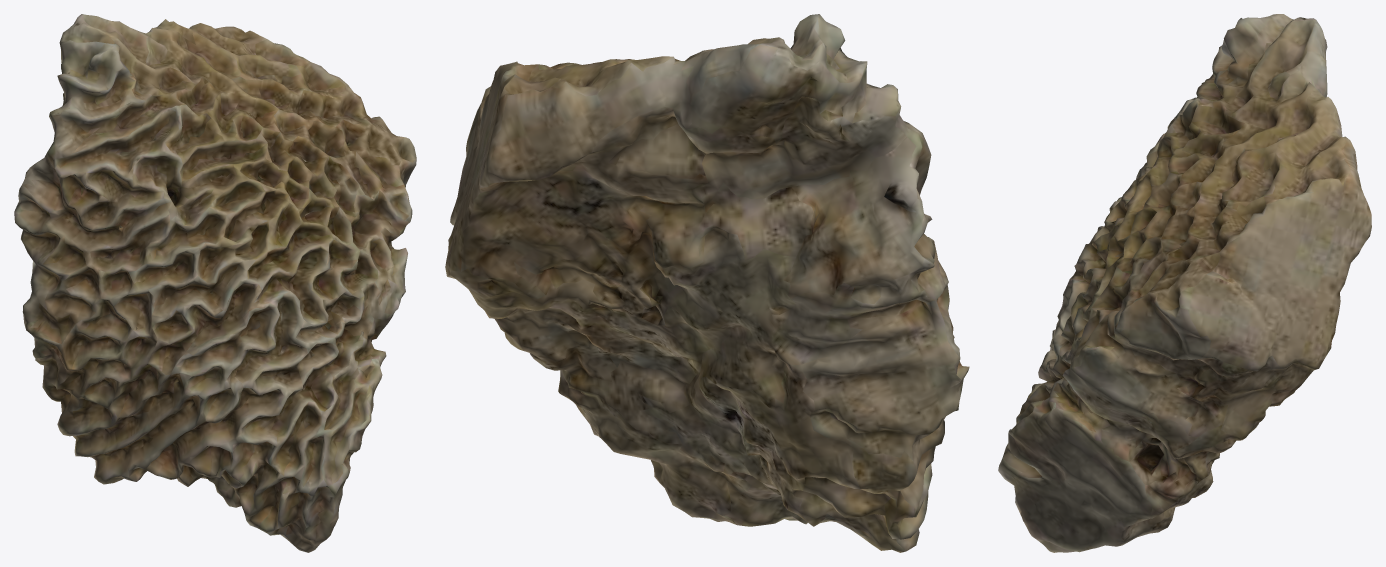
File: goniastrea.glb
3 renders of one model, left to right at view 1: azimuth 30°, elevation 25°; view 2: azimuth 150°, elevation 25°; view 3: azimuth 270°, elevation 25°, orthographic. The views are drawn at different scales.
Size of the model in its own units: 0.1033 by 0.1238 by 0.0868.
1 material, 1 textured.
